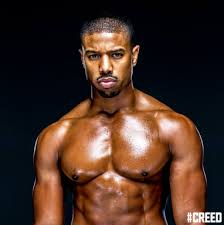black_male: (76, 17, 129, 92)
